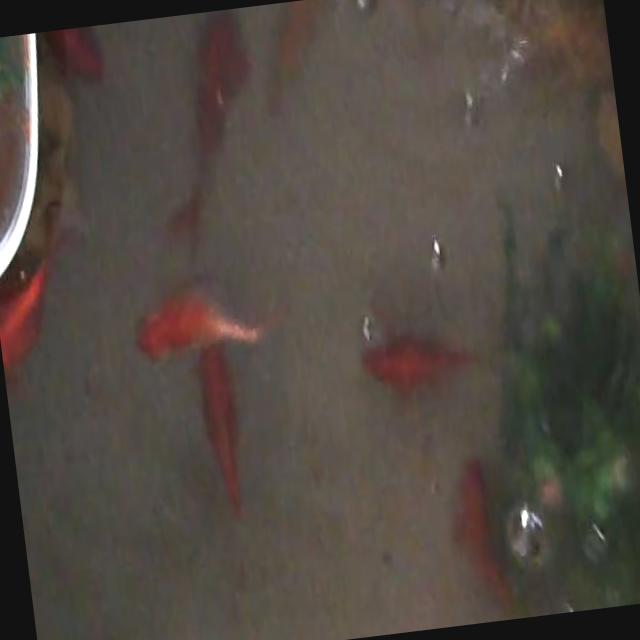fish: (144, 6, 274, 258), (128, 270, 284, 369), (0, 218, 85, 385), (442, 451, 512, 618), (356, 323, 488, 403), (193, 336, 250, 519), (258, 0, 337, 109), (38, 24, 108, 90)
